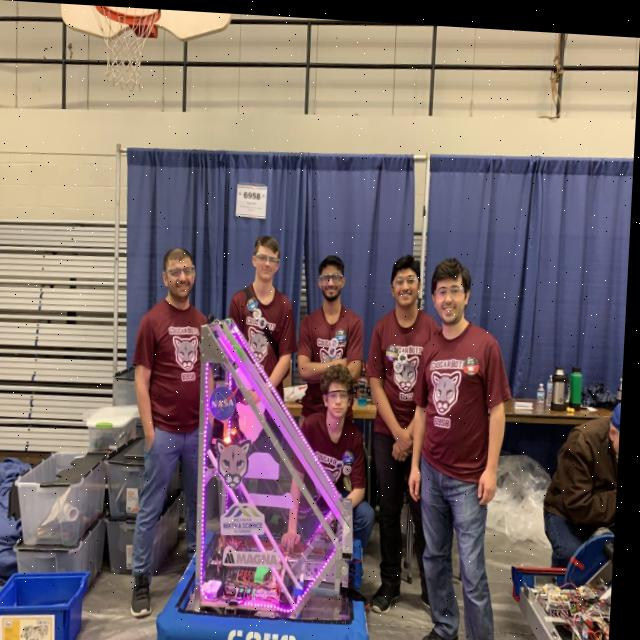robot: (163, 314, 392, 640)
